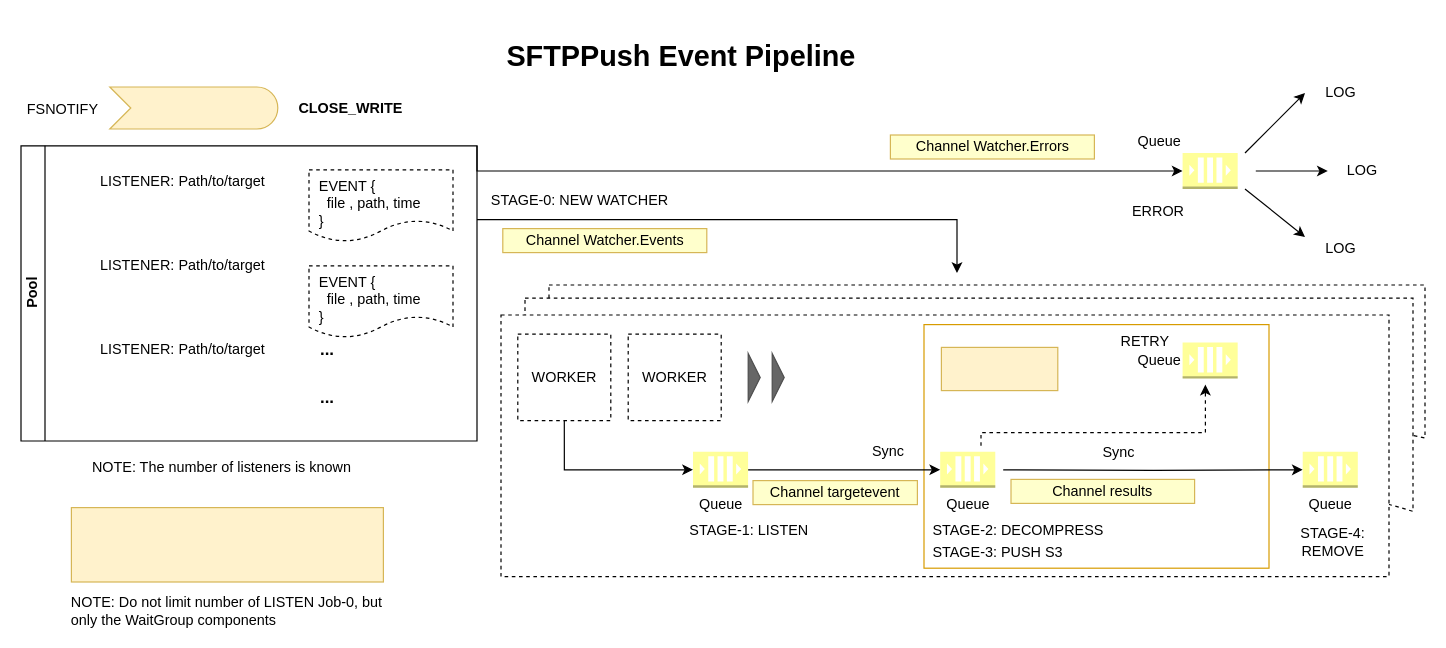
The diagram is 1446 pixels wide and 648 high, and some of its shapes have lost their labels. Each missing label, with the centre of its shape:
Event: [193,107]
WaitGroup: [999,368]
WaitGroup Worker Pool (Limit max threads to max file IO) across Watcher.Events: [226,544]
